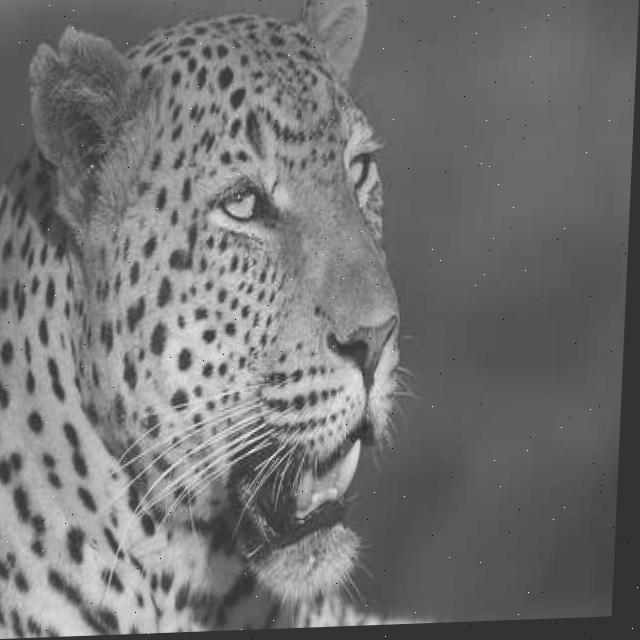Leopard: (0, 0, 436, 638)
